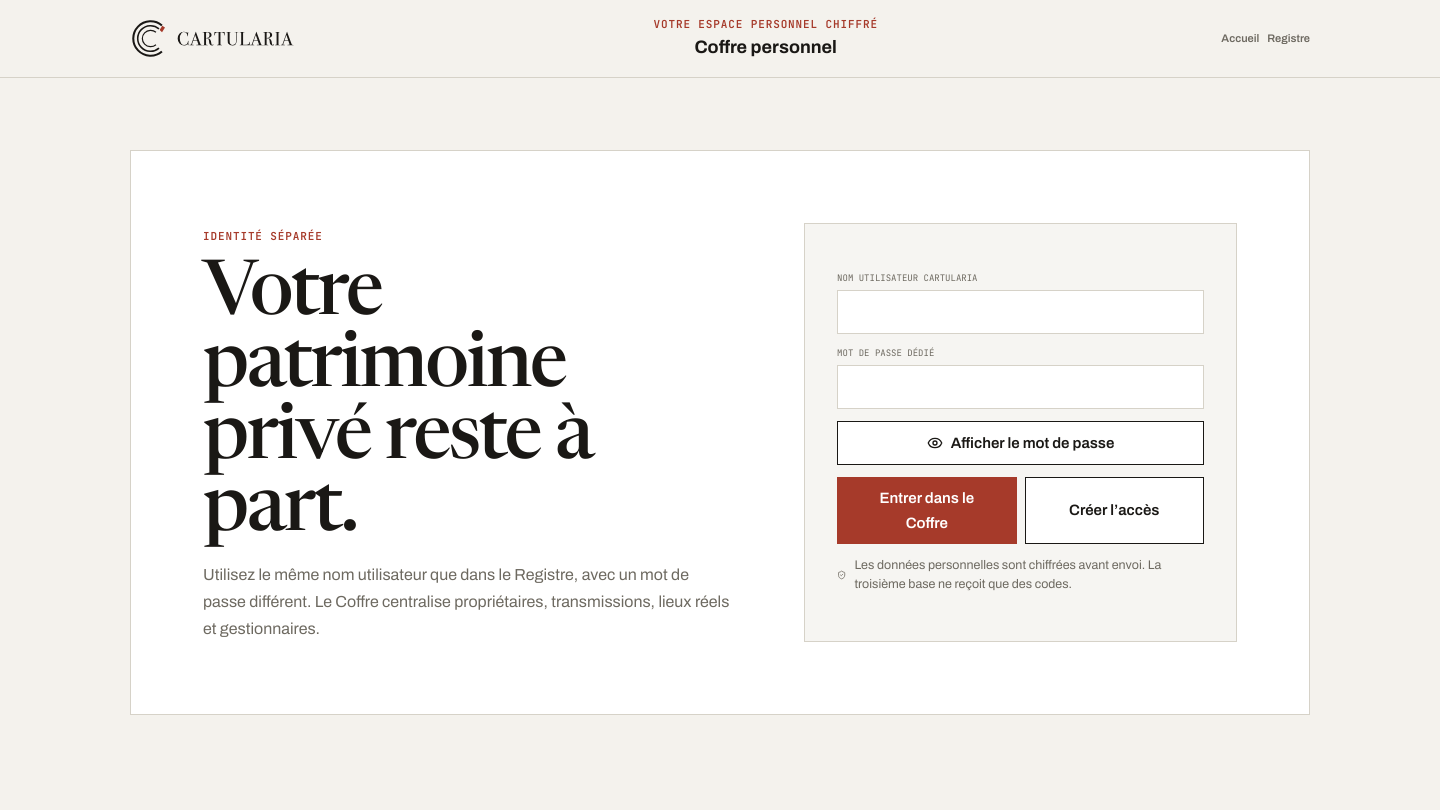
Test: Coffre : fermeture de la frontière de session › retire le formulaire sur refus de permission du Coffre et préserve le brouillon chiffré
This screenshot has width=1440, height=810.
Type "atlas" into the field labelled "Nom utilisateur Cartularia" at (1021, 312), box x1=837 y1=290 x2=1204 y2=334
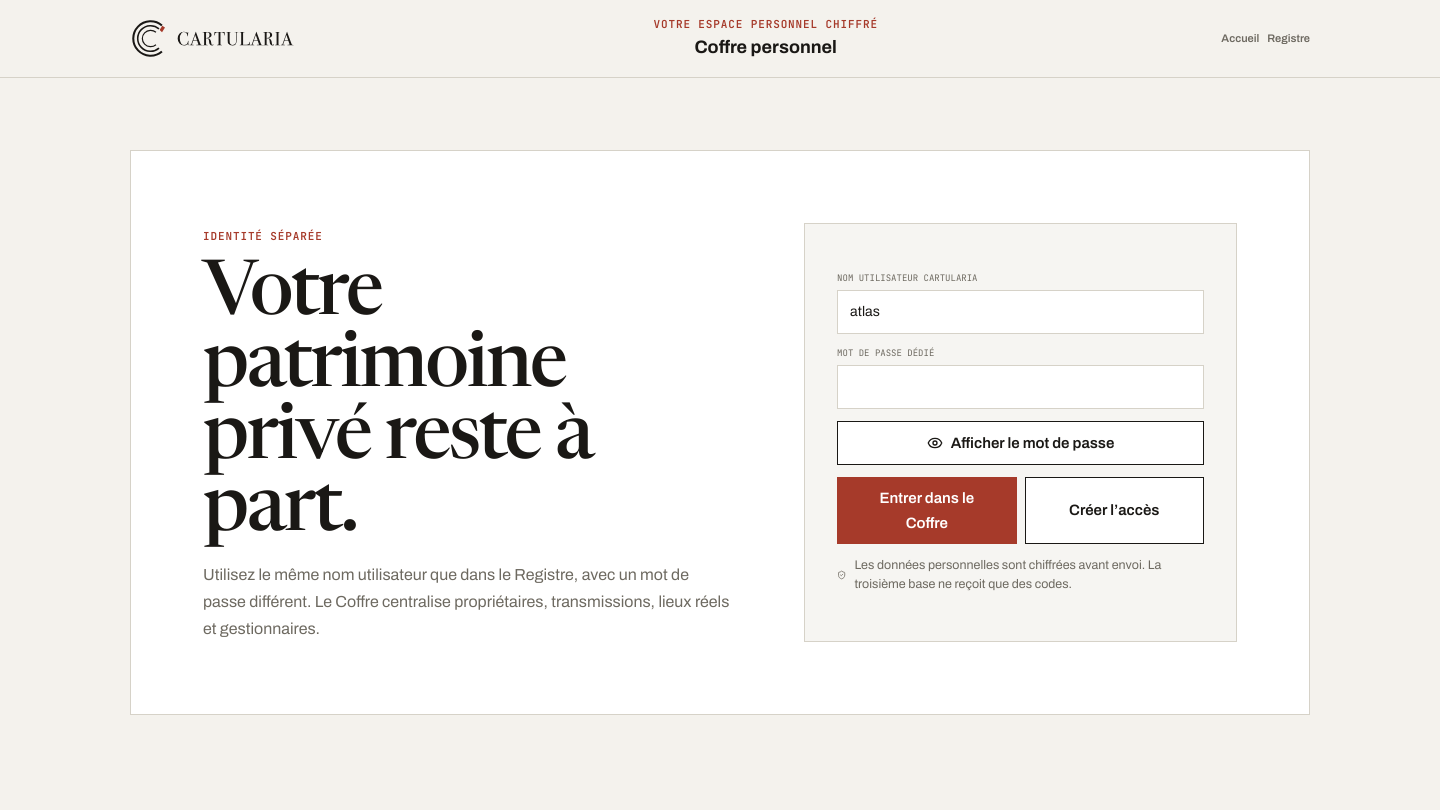
Type "personal-password-only" into the password field labelled "Mot de passe dédié" at (1021, 387), box x1=837 y1=365 x2=1204 y2=409
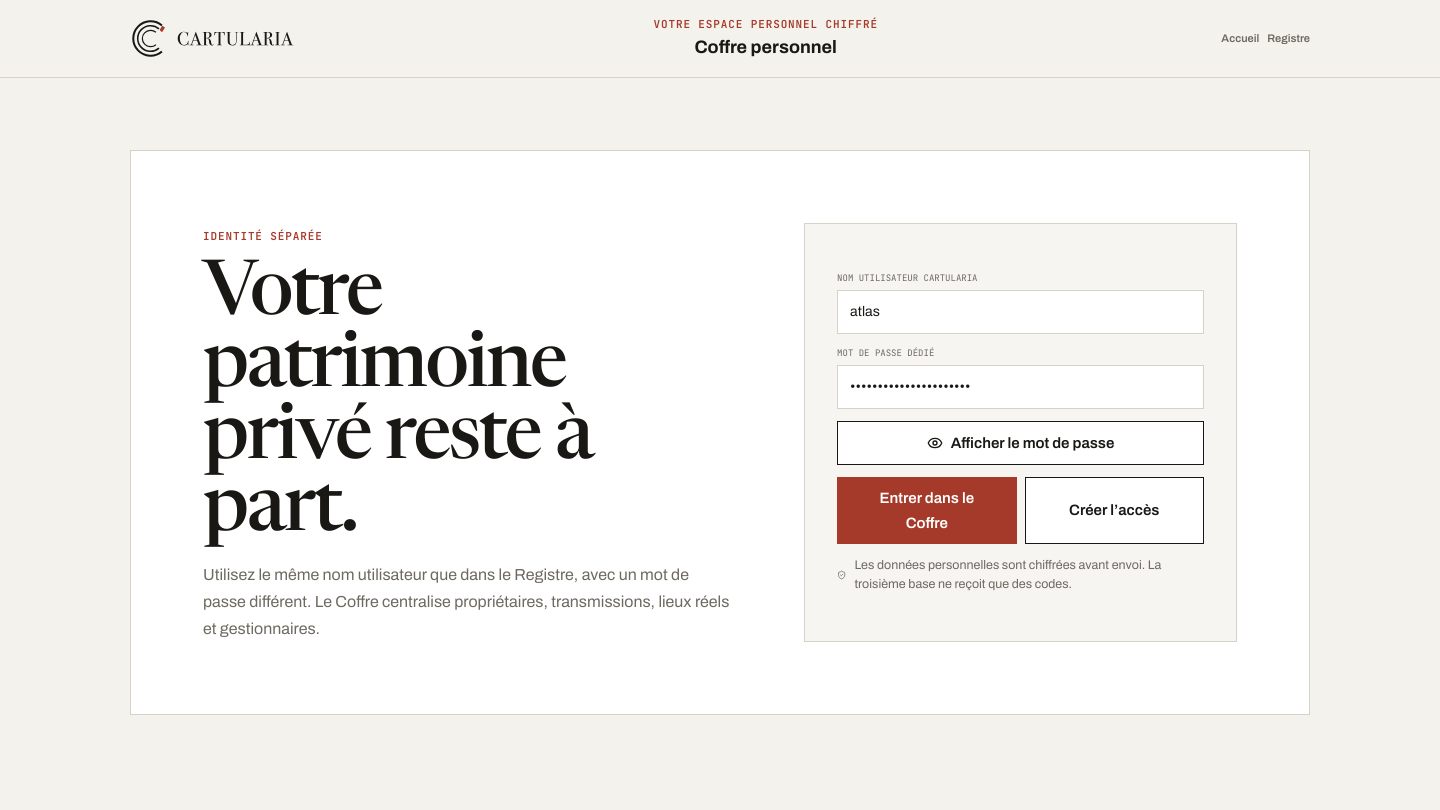
Click the button "Entrer dans le Coffre" at (927, 511), box x1=837 y1=477 x2=1017 y2=544
(page scrolled)
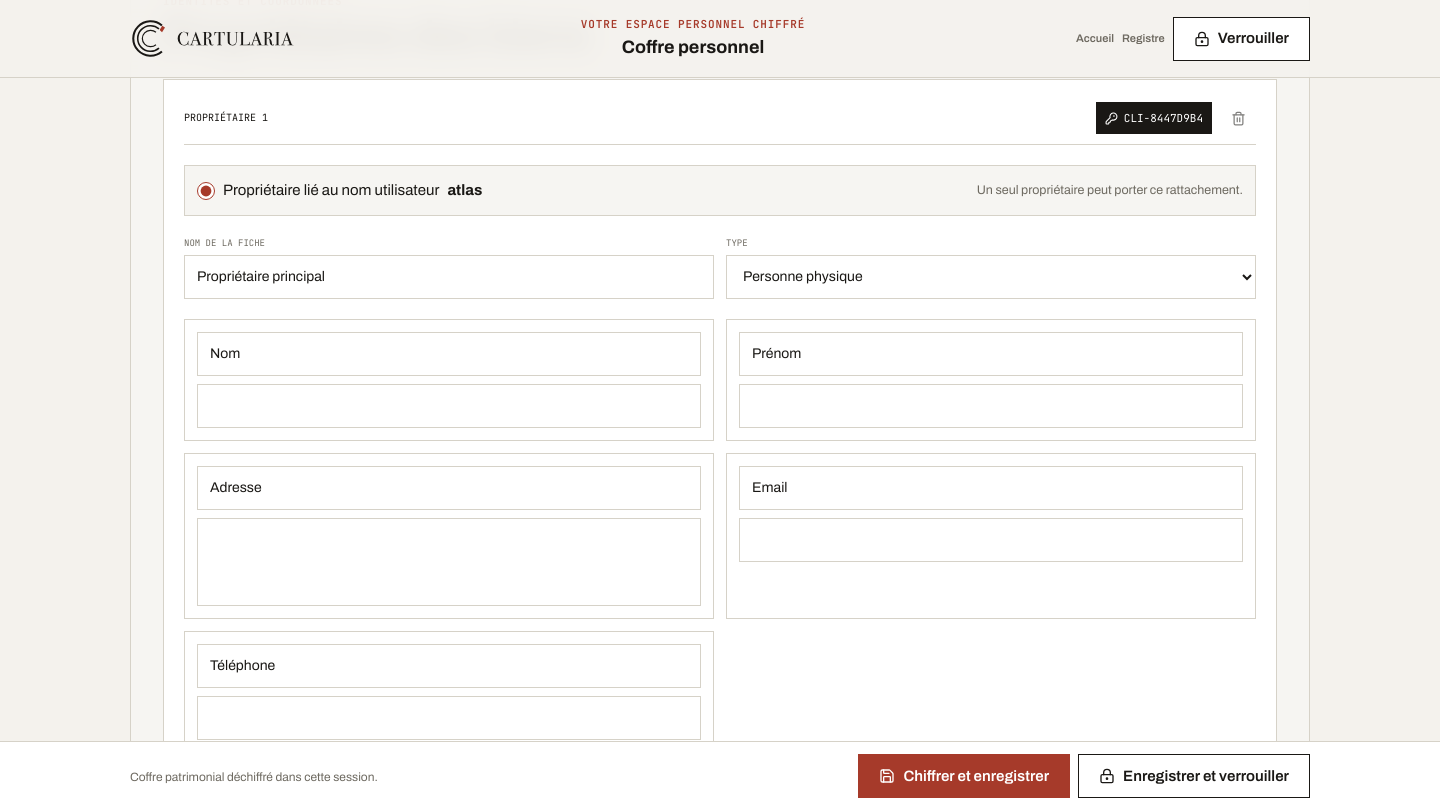
Check: the heading "Propriétaires des biens" is shown, box x1=163 y1=12 x2=588 y2=59
Type "Saisie avant refus" into the field named "Nom" at (449, 406), box x1=197 y1=384 x2=701 y2=428
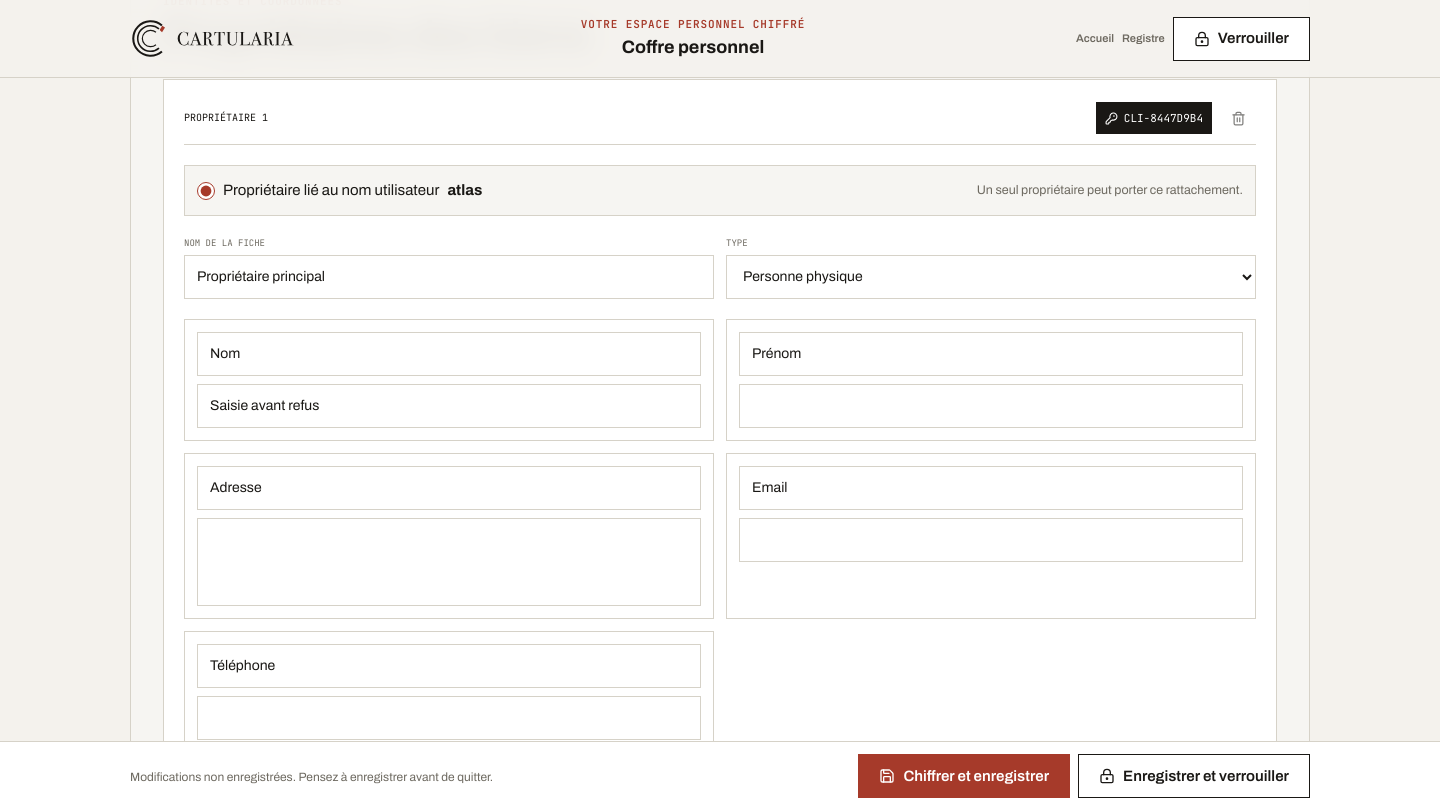
Click the button "Chiffrer et enregistrer" at (964, 776), box x1=858 y1=754 x2=1070 y2=798
(page scrolled)
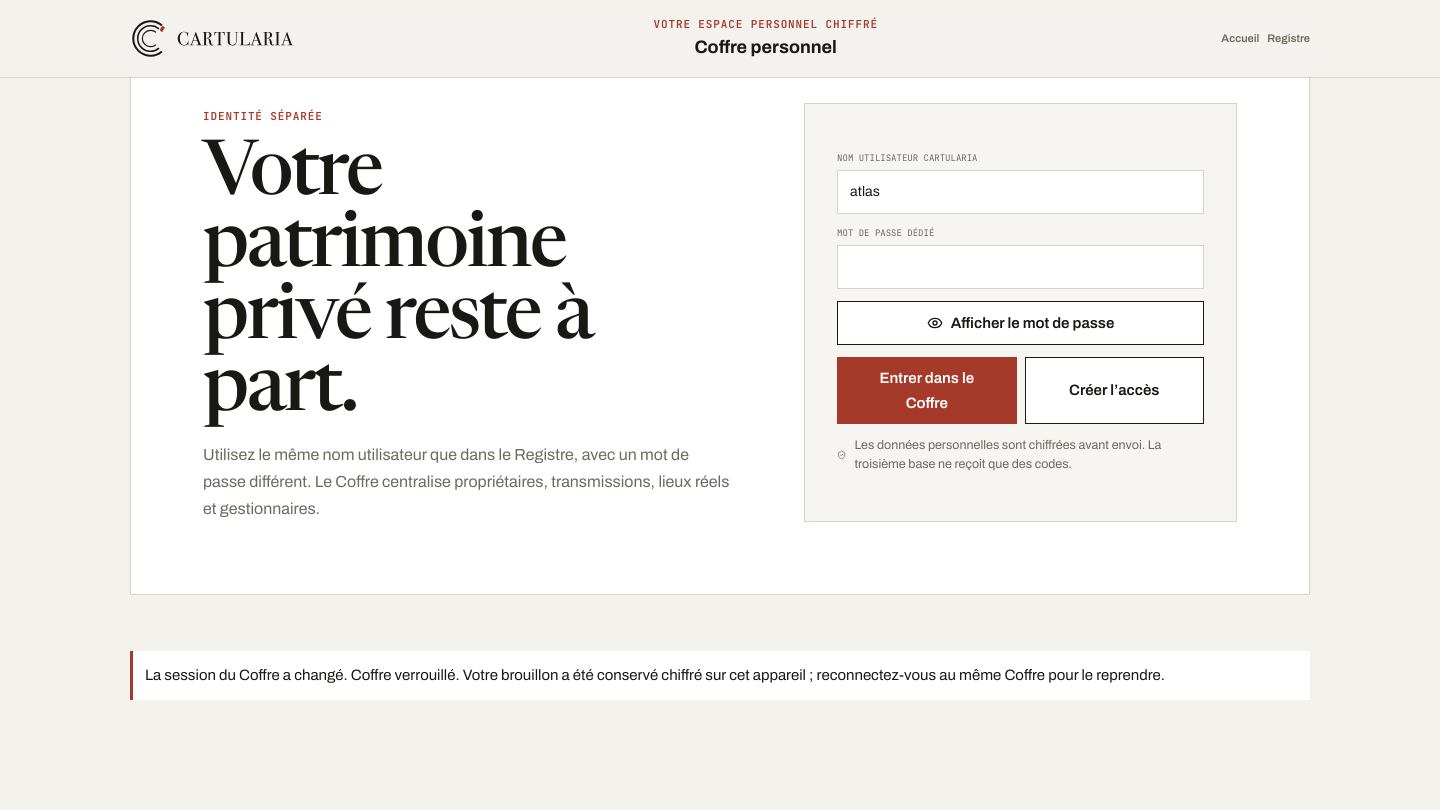
Check: the text "brouillon a été conservé chiffré" is shown, box x1=145 y1=667 x2=1165 y2=683
